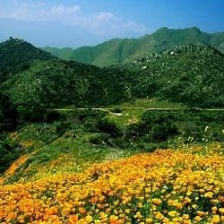neutral: (1, 1, 224, 219)
